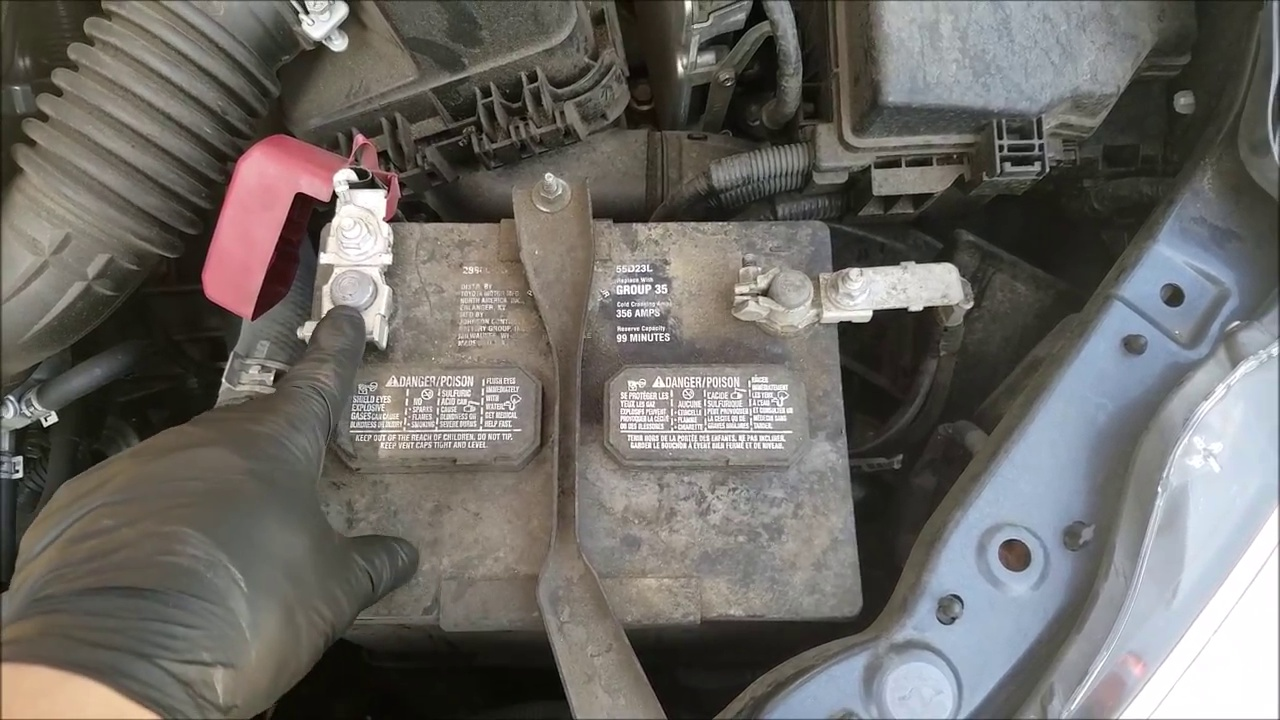battery: (288, 163, 864, 621)
neg_connected: (712, 224, 926, 348)
pos_connected: (256, 137, 416, 344)
pos_touched: (242, 172, 424, 527)
